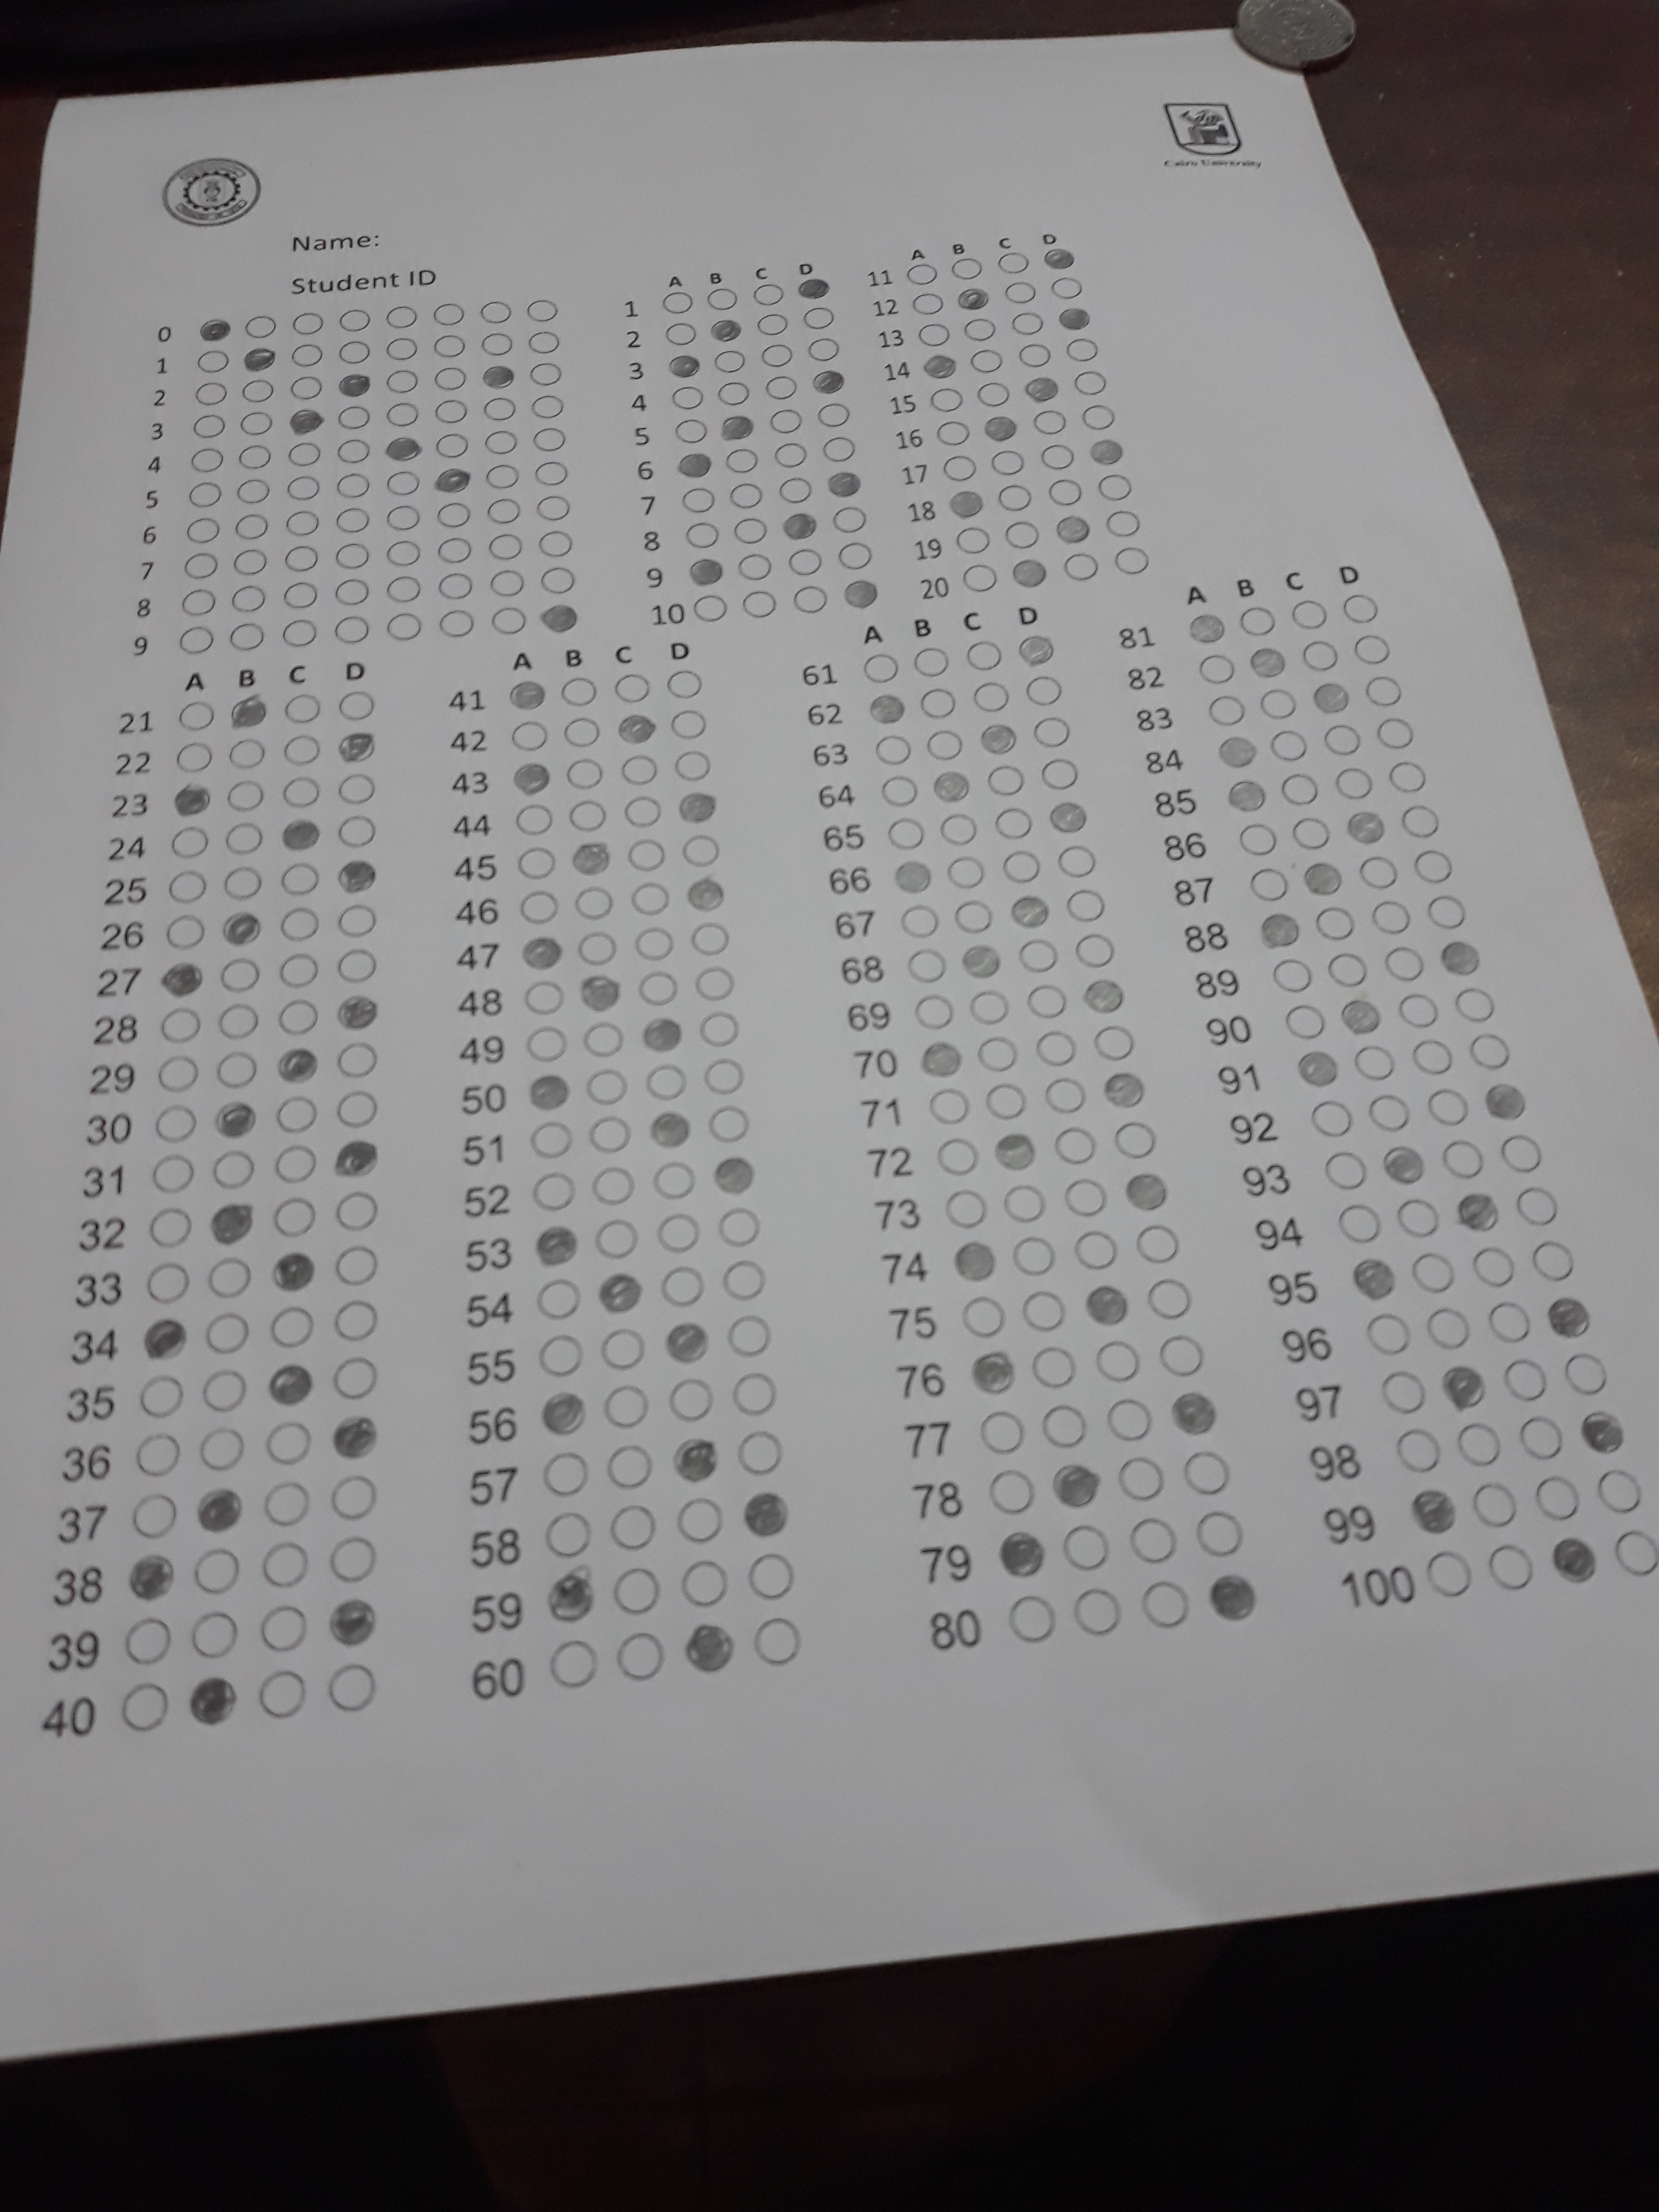not-c: (1140, 1580, 1192, 1630), (1453, 1418, 1506, 1468), (1471, 1479, 1523, 1529), (1500, 1353, 1553, 1404), (1607, 1527, 1659, 1578), (1561, 1348, 1614, 1399), (1514, 1413, 1567, 1463), (1485, 1298, 1537, 1348), (1392, 1426, 1445, 1477), (985, 1465, 1037, 1515), (976, 1407, 1028, 1458), (957, 1291, 1009, 1341), (1026, 1339, 1079, 1390), (1018, 1284, 1070, 1334), (1194, 1507, 1246, 1557), (1145, 1271, 1197, 1322), (1070, 1226, 1122, 1277), (1009, 1230, 1061, 1280), (542, 1510, 594, 1561), (540, 1449, 592, 1500), (601, 1381, 653, 1432), (606, 1503, 659, 1554), (610, 1566, 662, 1616), (547, 1639, 599, 1689), (674, 1494, 727, 1545), (728, 1367, 781, 1418), (737, 1430, 789, 1480), (744, 1554, 796, 1604), (753, 1615, 805, 1665), (141, 1258, 193, 1308), (328, 1353, 380, 1404), (328, 1533, 380, 1583), (261, 1420, 314, 1470), (260, 1479, 312, 1529), (258, 1540, 310, 1590), (258, 1602, 310, 1653), (254, 1670, 307, 1721), (190, 1547, 242, 1597), (197, 1366, 249, 1416), (200, 1308, 253, 1359), (134, 1372, 186, 1423), (131, 1430, 183, 1480), (129, 1491, 181, 1541), (122, 1615, 174, 1665), (1129, 1515, 1180, 1566), (1061, 1522, 1112, 1573), (1117, 1453, 1168, 1503), (1486, 1541, 1537, 1592), (1595, 1467, 1645, 1517), (1532, 1472, 1582, 1522), (1467, 1240, 1518, 1291), (1424, 1303, 1474, 1353), (1364, 1308, 1415, 1359), (1006, 1592, 1056, 1642), (1103, 1395, 1154, 1446), (1093, 1336, 1143, 1386), (1182, 1446, 1232, 1496), (1131, 1217, 1182, 1268), (1073, 1587, 1124, 1637), (605, 1439, 655, 1489), (619, 1632, 669, 1683), (681, 1557, 732, 1608), (328, 1472, 378, 1522), (326, 1663, 376, 1714), (118, 1681, 169, 1731), (1039, 1402, 1091, 1451), (1155, 1332, 1208, 1381), (667, 1374, 720, 1423), (328, 1298, 380, 1346), (265, 1305, 317, 1353), (188, 1609, 240, 1658), (1377, 1367, 1427, 1416), (1425, 1548, 1476, 1597), (197, 1423, 247, 1472), (528, 1118, 577, 1163), (207, 1148, 256, 1193), (152, 1101, 200, 1146), (146, 1151, 195, 1197), (521, 974, 570, 1019), (587, 1113, 636, 1158), (204, 1254, 253, 1299), (650, 1157, 699, 1202), (714, 1205, 763, 1251), (657, 1263, 706, 1308), (653, 1211, 702, 1256), (598, 1325, 647, 1371), (535, 1277, 584, 1322), (211, 1047, 260, 1092), (272, 1141, 321, 1186), (333, 1188, 382, 1233), (1499, 1132, 1546, 1177), (1425, 1085, 1473, 1130), (1309, 1097, 1356, 1143), (525, 1022, 572, 1068), (516, 887, 563, 932), (591, 1163, 638, 1209), (584, 1064, 631, 1109), (582, 1017, 629, 1062), (720, 1258, 767, 1303), (538, 1332, 586, 1378), (214, 1000, 261, 1045), (274, 1092, 321, 1137), (272, 1195, 319, 1240), (999, 1183, 1047, 1226), (1053, 1123, 1101, 1167), (1040, 1075, 1089, 1118), (932, 1136, 981, 1179), (924, 1083, 972, 1127), (573, 927, 622, 970), (570, 881, 619, 925), (1528, 1238, 1575, 1282), (1412, 1251, 1459, 1294), (1514, 1186, 1561, 1230), (1394, 1197, 1441, 1240), (1337, 1202, 1384, 1245), (1441, 1136, 1488, 1179), (1323, 1150, 1370, 1193), (1366, 1090, 1413, 1134), (1061, 1176, 1108, 1219), (1112, 1118, 1159, 1162), (941, 1186, 988, 1230), (530, 1170, 577, 1214), (331, 1244, 378, 1287), (643, 1061, 690, 1104), (146, 1205, 193, 1249), (706, 1103, 753, 1146), (725, 1313, 772, 1357), (594, 1217, 641, 1261), (155, 1052, 202, 1096), (157, 1003, 204, 1047), (335, 1040, 382, 1083), (335, 1087, 382, 1130), (1425, 892, 1469, 932), (1270, 956, 1314, 996), (277, 859, 321, 899), (221, 864, 265, 904), (225, 777, 268, 817), (281, 772, 324, 812), (281, 730, 324, 770), (335, 812, 378, 852), (335, 902, 378, 942), (335, 946, 378, 986), (275, 951, 319, 991), (277, 996, 321, 1036), (216, 954, 260, 995), (166, 866, 209, 906), (167, 822, 211, 862), (509, 716, 552, 756), (516, 841, 559, 881), (162, 913, 207, 951), (1413, 1036, 1455, 1076), (1328, 949, 1370, 989), (1370, 897, 1412, 937), (1455, 984, 1497, 1024), (1413, 846, 1455, 887), (899, 902, 941, 942), (627, 880, 671, 918), (945, 853, 988, 892), (999, 848, 1042, 887), (986, 761, 1030, 799), (669, 747, 713, 786), (1033, 1029, 1077, 1068), (1352, 1043, 1396, 1082), (1398, 991, 1441, 1029), (1358, 853, 1401, 892), (1469, 1033, 1513, 1071), (1236, 820, 1279, 859), (1385, 758, 1429, 796), (967, 988, 1011, 1026), (913, 995, 957, 1033), (1026, 982, 1070, 1021), (904, 946, 948, 984), (277, 906, 321, 944), (173, 738, 216, 777), (223, 820, 267, 859), (335, 768, 378, 806), (512, 799, 556, 838), (985, 1082, 1026, 1120), (1333, 765, 1375, 803), (1277, 770, 1319, 808), (1373, 714, 1415, 752), (1269, 728, 1310, 766), (1256, 685, 1298, 723), (1206, 691, 1248, 730), (925, 726, 967, 765), (568, 796, 610, 834), (634, 968, 676, 1007), (633, 925, 674, 963), (620, 792, 662, 831), (619, 751, 660, 789), (1065, 887, 1107, 925), (936, 810, 978, 848), (884, 813, 925, 852), (878, 772, 920, 810), (978, 1035, 1019, 1073), (1094, 1022, 1136, 1061), (1384, 944, 1425, 982), (1316, 904, 1358, 942), (1290, 815, 1331, 853), (1399, 801, 1441, 840), (1286, 1003, 1328, 1042), (1248, 866, 1290, 904), (953, 897, 995, 935), (1321, 721, 1364, 758), (1363, 672, 1406, 709), (1037, 756, 1080, 792), (1030, 714, 1073, 751), (565, 756, 608, 792), (1016, 937, 1060, 974), (697, 1010, 741, 1047), (624, 836, 666, 873), (1073, 932, 1115, 968), (1056, 843, 1098, 880), (992, 805, 1033, 841), (702, 1059, 744, 1096), (692, 965, 734, 1001), (690, 921, 732, 958), (680, 833, 721, 869), (335, 688, 376, 725), (281, 690, 322, 726), (225, 735, 267, 772), (174, 698, 216, 735), (563, 714, 605, 749), (1351, 631, 1392, 665), (1290, 597, 1331, 632), (662, 665, 704, 700), (610, 671, 652, 705), (873, 733, 913, 768), (669, 707, 709, 742), (918, 686, 958, 721), (971, 678, 1011, 712), (1023, 672, 1063, 707), (1197, 651, 1237, 686), (1300, 637, 1340, 672), (964, 637, 1004, 672), (1340, 590, 1380, 625), (1237, 604, 1277, 639), (910, 644, 950, 679), (861, 650, 901, 685), (558, 674, 598, 709), (190, 409, 228, 442), (385, 610, 423, 643), (383, 500, 422, 533), (725, 479, 763, 512), (281, 617, 317, 650), (286, 472, 322, 505), (186, 477, 223, 510), (188, 444, 225, 477), (432, 395, 469, 428), (533, 458, 570, 491), (333, 575, 369, 608), (680, 484, 716, 517), (941, 451, 978, 484), (488, 568, 526, 599), (385, 467, 423, 498), (282, 509, 321, 540), (227, 620, 265, 651), (232, 510, 270, 542), (234, 475, 272, 507), (176, 624, 214, 655), (179, 587, 218, 618), (530, 425, 568, 456), (490, 604, 528, 636), (685, 519, 723, 550), (974, 378, 1012, 409), (953, 524, 992, 556), (1096, 472, 1134, 503), (333, 505, 369, 536), (335, 470, 371, 502), (282, 543, 319, 575), (282, 578, 319, 610), (230, 583, 267, 615), (232, 547, 268, 578), (183, 549, 220, 580), (185, 514, 221, 545), (483, 427, 519, 458), (434, 430, 471, 462), (335, 435, 371, 467), (286, 439, 322, 470), (237, 441, 274, 472), (528, 390, 565, 421), (483, 394, 519, 425), (383, 397, 420, 428), (237, 408, 274, 439), (437, 571, 474, 603), (436, 535, 472, 566), (488, 531, 525, 563), (732, 516, 769, 547), (838, 540, 875, 571), (793, 583, 829, 615), (741, 589, 777, 620), (692, 592, 728, 624), (538, 564, 575, 596), (436, 500, 472, 531), (538, 528, 575, 559), (439, 608, 476, 639), (486, 496, 523, 528), (535, 491, 572, 523), (484, 462, 521, 493), (385, 573, 422, 604), (385, 536, 422, 568), (333, 615, 369, 646), (335, 540, 371, 571), (737, 550, 774, 582), (786, 547, 823, 578), (969, 345, 1006, 376), (1018, 340, 1054, 371), (1065, 334, 1101, 366), (1072, 368, 1108, 399), (929, 385, 965, 416), (934, 418, 971, 449), (1033, 406, 1070, 437), (1080, 401, 1117, 432), (1040, 442, 1077, 474), (990, 448, 1026, 479), (997, 482, 1033, 514), (1004, 519, 1040, 550), (1047, 477, 1084, 509), (1105, 509, 1141, 540), (1114, 545, 1150, 577), (1063, 552, 1100, 583), (962, 563, 999, 594), (711, 345, 746, 376), (432, 362, 467, 394), (195, 345, 230, 376), (802, 303, 836, 334), (664, 317, 699, 348), (753, 279, 788, 310), (336, 305, 371, 336), (244, 310, 279, 341), (829, 505, 866, 535), (814, 401, 850, 430), (821, 434, 857, 463), (671, 416, 708, 446), (962, 314, 999, 343), (1009, 308, 1046, 338), (1002, 277, 1039, 307), (1047, 273, 1084, 303), (997, 249, 1033, 279), (903, 260, 939, 289), (763, 373, 800, 402), (669, 383, 706, 413), (756, 341, 793, 371), (336, 402, 371, 432), (240, 376, 275, 406), (289, 373, 324, 402), (385, 368, 420, 397), (528, 359, 563, 388), (336, 338, 371, 368), (289, 341, 324, 371), (195, 378, 230, 408), (755, 310, 789, 340), (704, 284, 739, 314), (660, 287, 695, 317), (385, 334, 420, 364), (432, 331, 467, 361), (481, 329, 516, 359), (526, 327, 561, 357), (525, 294, 559, 324), (477, 298, 512, 327), (432, 300, 467, 329), (383, 303, 418, 333), (291, 308, 326, 338), (950, 254, 985, 284), (805, 334, 840, 364), (723, 448, 758, 477), (777, 477, 814, 505), (915, 320, 951, 348), (910, 289, 946, 317), (714, 380, 751, 408), (770, 441, 807, 469), (767, 408, 803, 435)
taken-c: (185, 1676, 239, 1726), (681, 1623, 735, 1674), (125, 1552, 179, 1602), (328, 1599, 382, 1648), (995, 1531, 1047, 1580), (1049, 1463, 1101, 1512), (1208, 1573, 1260, 1622), (1579, 1411, 1631, 1460), (1549, 1536, 1601, 1585), (1408, 1487, 1460, 1536), (1436, 1364, 1488, 1413), (193, 1486, 244, 1533), (532, 1223, 582, 1270), (265, 1360, 315, 1407), (1168, 1390, 1220, 1435), (545, 1575, 598, 1620), (537, 1392, 589, 1437), (594, 1271, 647, 1317), (742, 1491, 793, 1536), (669, 1437, 720, 1482), (329, 1413, 380, 1458), (139, 1315, 190, 1360), (267, 1249, 317, 1294), (207, 1200, 258, 1245), (329, 1137, 380, 1183), (1455, 1193, 1504, 1235), (662, 1322, 709, 1364), (711, 1155, 758, 1197), (1351, 1258, 1398, 1299), (1380, 1144, 1427, 1186), (969, 1352, 1016, 1393), (1084, 1284, 1131, 1325), (950, 1240, 997, 1282), (336, 993, 382, 1033), (647, 1109, 692, 1150), (213, 1099, 258, 1137), (275, 1045, 321, 1083), (526, 1075, 572, 1113), (640, 1015, 685, 1054), (577, 974, 622, 1012), (519, 935, 565, 974), (160, 960, 206, 998), (220, 909, 265, 948), (335, 859, 380, 897), (1485, 1083, 1528, 1122), (1124, 1172, 1168, 1211), (993, 1134, 1037, 1172), (1297, 1050, 1340, 1089), (1439, 939, 1483, 977), (1103, 1071, 1147, 1109), (958, 941, 1002, 979), (1007, 894, 1051, 932), (890, 859, 934, 897), (922, 1042, 964, 1080), (1338, 998, 1382, 1035), (1084, 977, 1127, 1014), (169, 780, 213, 817), (538, 603, 582, 636), (615, 712, 659, 745), (505, 678, 549, 711), (946, 488, 990, 521), (1053, 512, 1096, 545), (823, 467, 866, 500), (779, 510, 823, 543), (840, 578, 884, 611), (430, 463, 474, 496), (382, 432, 425, 465), (333, 368, 376, 401), (193, 312, 237, 345), (1046, 799, 1086, 834), (931, 768, 971, 803), (978, 721, 1018, 756), (866, 691, 906, 726), (1347, 810, 1387, 845), (1227, 779, 1267, 813), (676, 791, 718, 824), (716, 411, 758, 444), (1023, 373, 1065, 406), (981, 413, 1023, 446), (1086, 435, 1127, 469), (1011, 557, 1053, 590), (477, 361, 519, 394), (284, 404, 326, 437), (281, 817, 322, 850), (570, 841, 612, 874), (511, 761, 552, 794), (336, 732, 378, 765), (237, 343, 281, 374), (227, 697, 270, 728), (1016, 632, 1054, 667), (1312, 681, 1351, 716), (1262, 913, 1302, 946), (1303, 862, 1344, 895), (1218, 735, 1258, 768), (1248, 646, 1288, 679), (1054, 303, 1096, 334), (674, 449, 716, 481), (1188, 611, 1227, 644), (660, 350, 702, 380), (955, 286, 993, 315), (809, 368, 847, 397), (795, 273, 833, 303), (706, 317, 744, 345), (1040, 244, 1079, 270)
